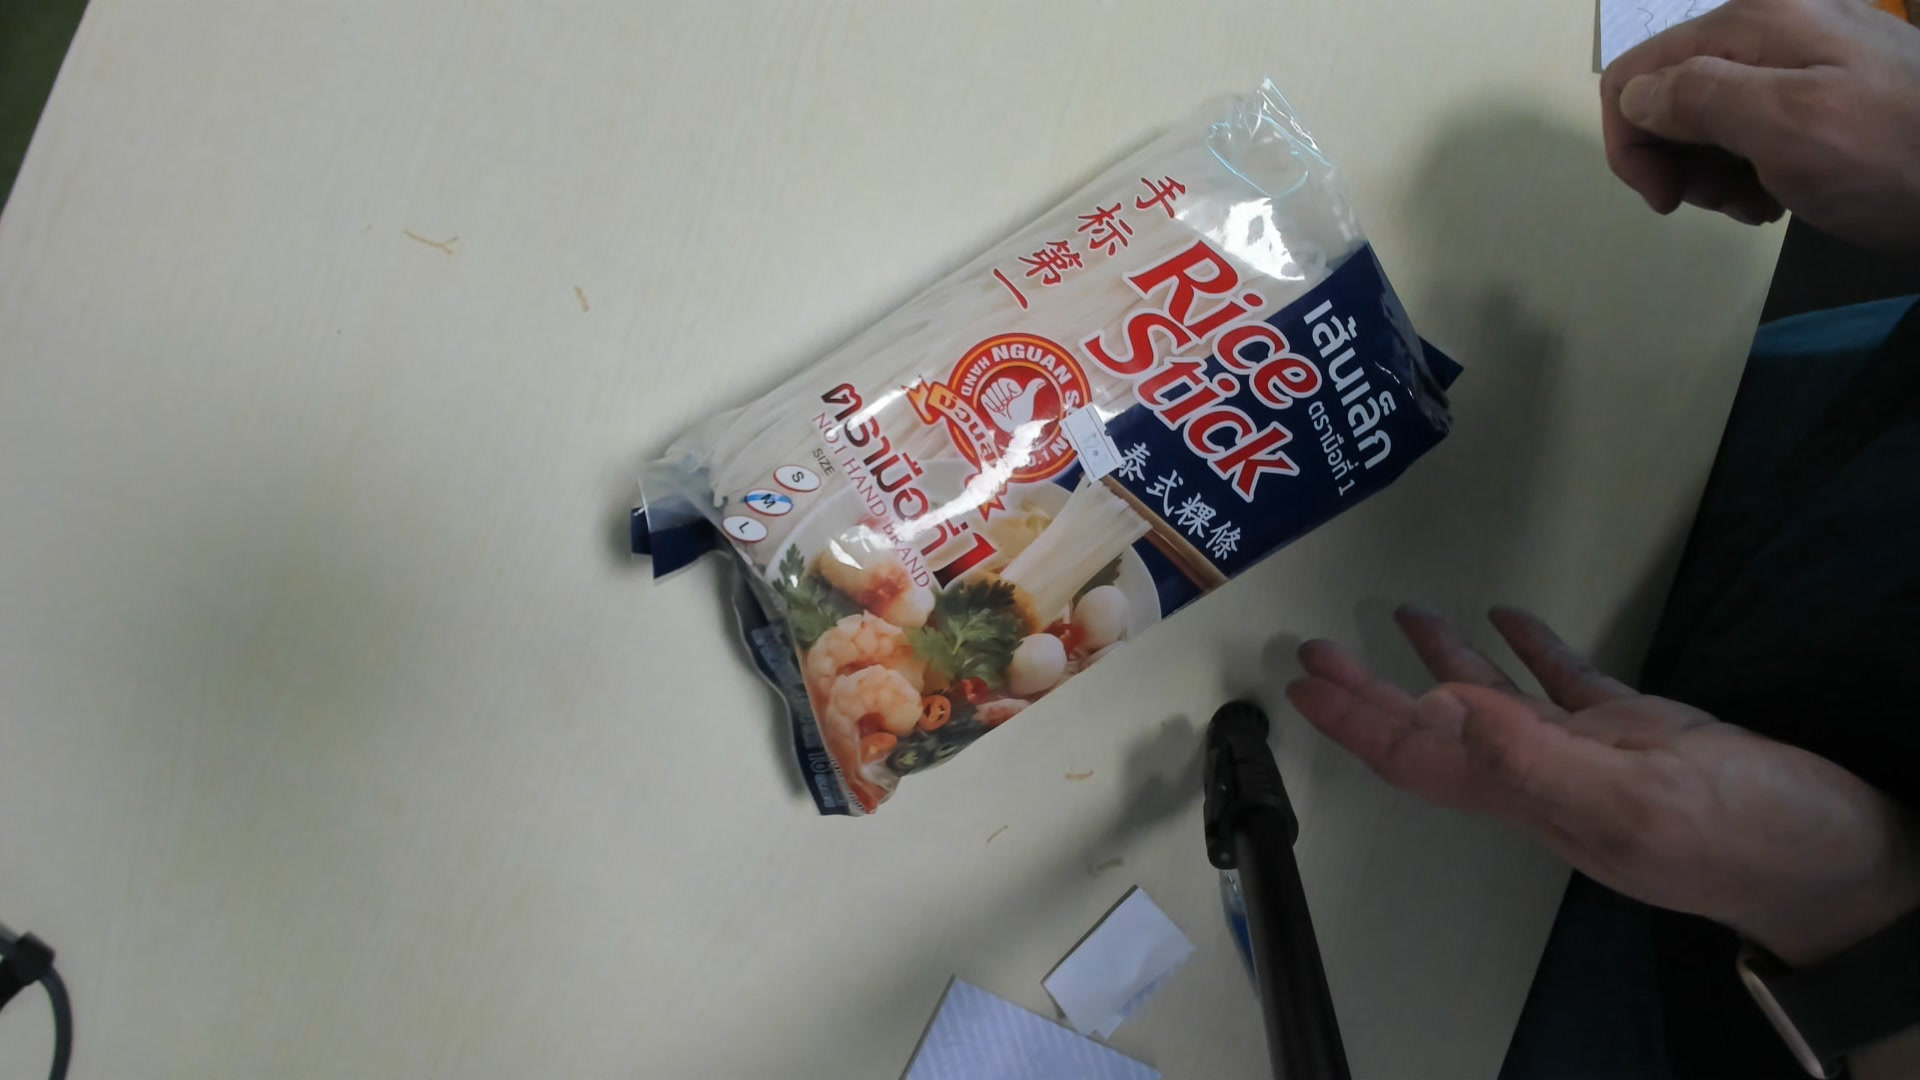OtherNoodles_400-499g_Halal_NonHealthy: (642, 88, 1476, 828)
